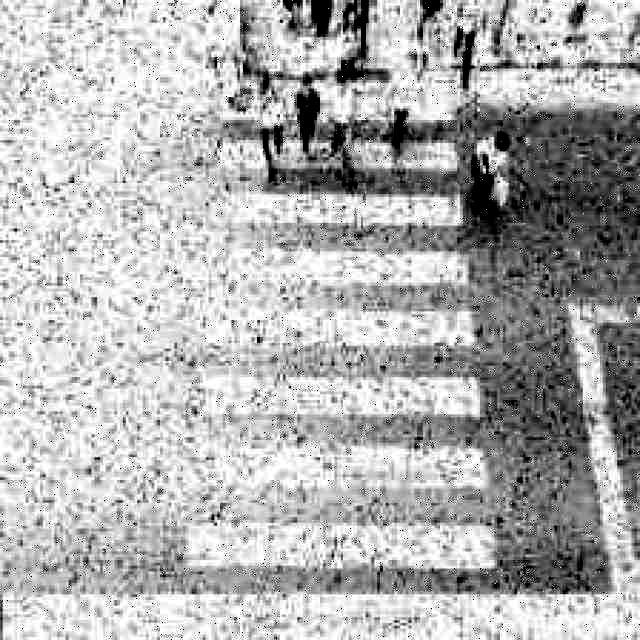crosswalk: (169, 117, 507, 594)
